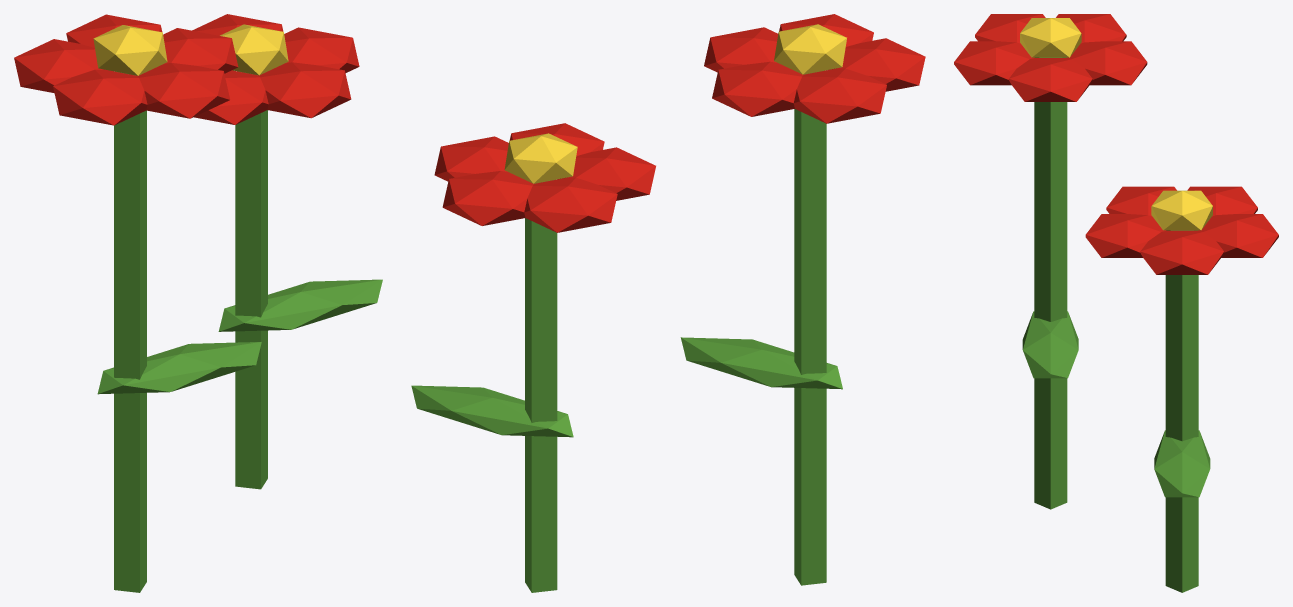
Rendered from nature2_flower_red.glb.
3 views of the same model, side by side, from view 1: azimuth 30°, elevation 25°; view 2: azimuth 150°, elevation 25°; view 3: azimuth 270°, elevation 25° (orthographic). The views are drawn at different scales.
Visible parts, largest first — view 1: flower_red; view 2: flower_red; view 3: flower_red.
Boxes of the visible parts, x1,y1,x2,y2 form: flower_red: (14,14,382,592); flower_red: (411,14,925,592); flower_red: (954,14,1278,592).
Bounding box in the file's own units: 0.2552 × 0.3252 × 0.1976.
